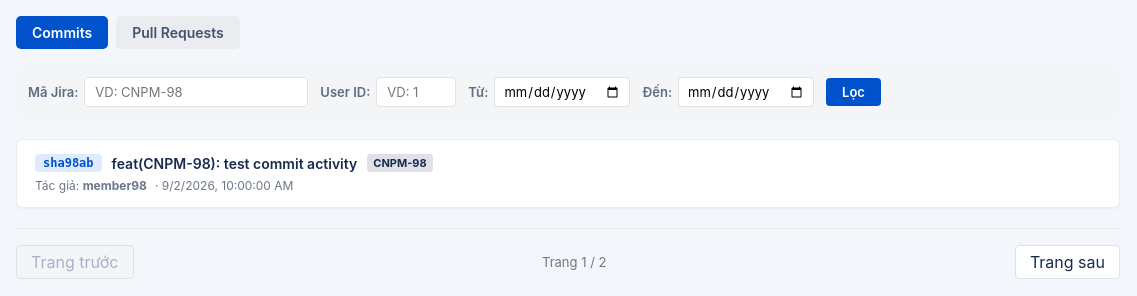
GitHubActivityComponent Acceptance Tests (Task 98 DTO) › 2. Chuyển tab sang Pull Request: Gọi API param PULL_REQUEST và render đầy đủ key, summary, author, jira, url
Expected: the link "sha98ab" is shown, [35,154,102,172]
Click the button "Pull Requests": (178, 32) [116,16,240,49]
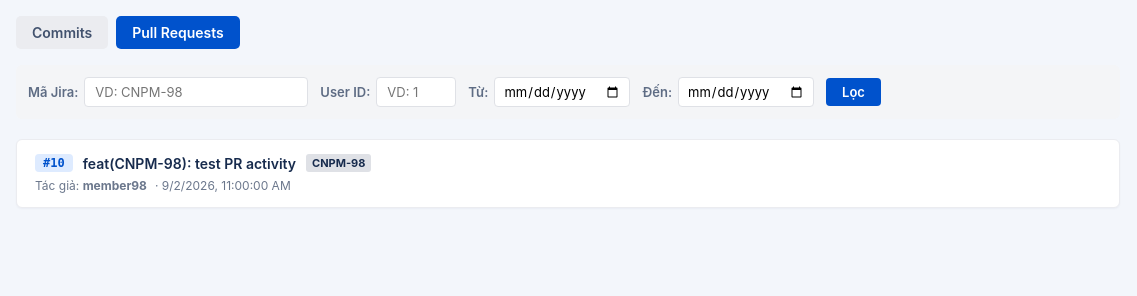
Expected: the link "feat(CNPM-98): test PR activity" is shown, [83,154,296,172]
